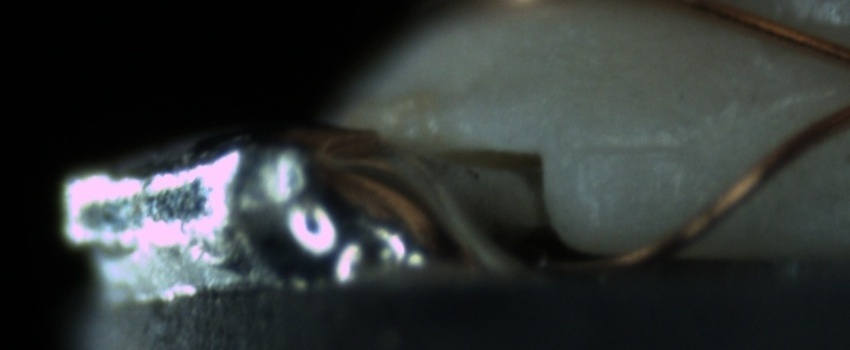DL: (572, 119, 686, 173)
